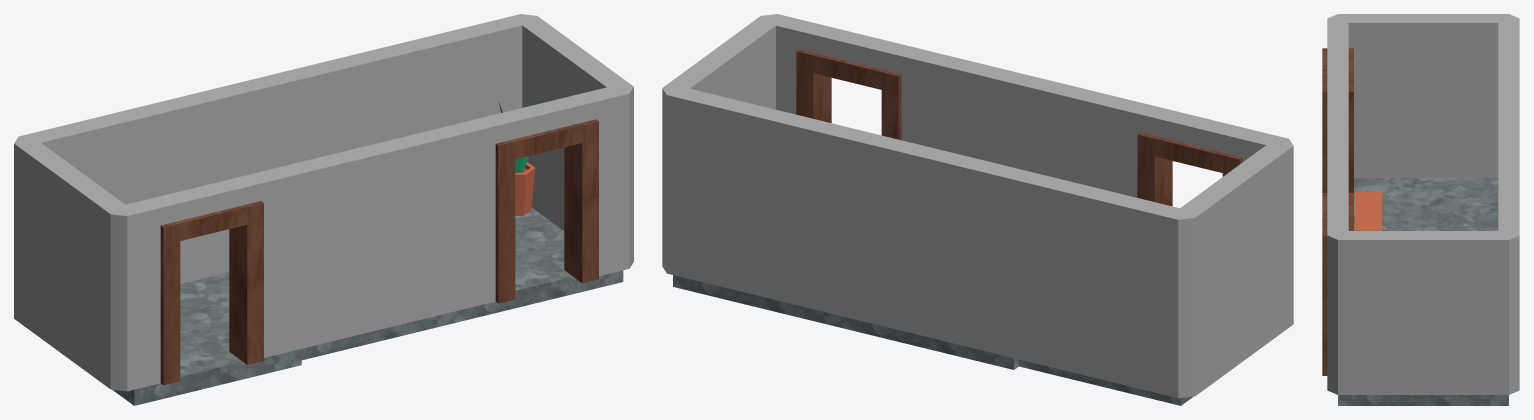
File: Level_1_5.fbx
3 views of the same model, side by side, from view 1: azimuth 30°, elevation 25°; view 2: azimuth 150°, elevation 25°; view 3: azimuth 270°, elevation 25° (orthographic). The views are drawn at different scales.
Parts seen in each view (by area): view 1: mergedBlocks; view 2: mergedBlocks; view 3: mergedBlocks.
Boxes of the visible parts, x1,y1,x2,y2 form: mergedBlocks: [14, 14, 633, 405]; mergedBlocks: [662, 14, 1293, 405]; mergedBlocks: [1322, 14, 1519, 405].
Bounding box in the file's own units: 62.5 × 22 × 23.1.
Materials: 6 (2 with a texture image).
